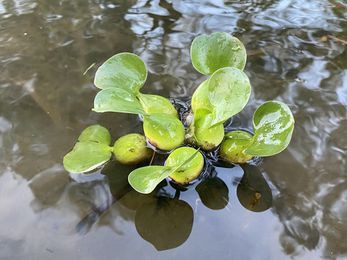water_hyacinth: (63, 30, 297, 195)
